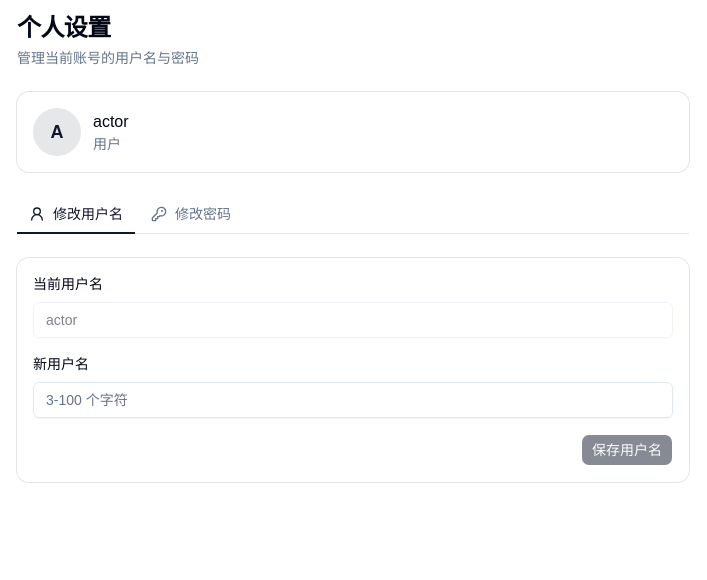
ProfilePage — self-service username & password › shows the username panel by default and switches panels via the panel nav
Expected: the field showing "actor" is shown, [33, 302, 673, 338]
Expected: the element with test id "username-panel" is shown, [17, 258, 689, 482]
Click the tab "修改密码" at {"x": 191, "y": 215}, box [139, 196, 243, 234]
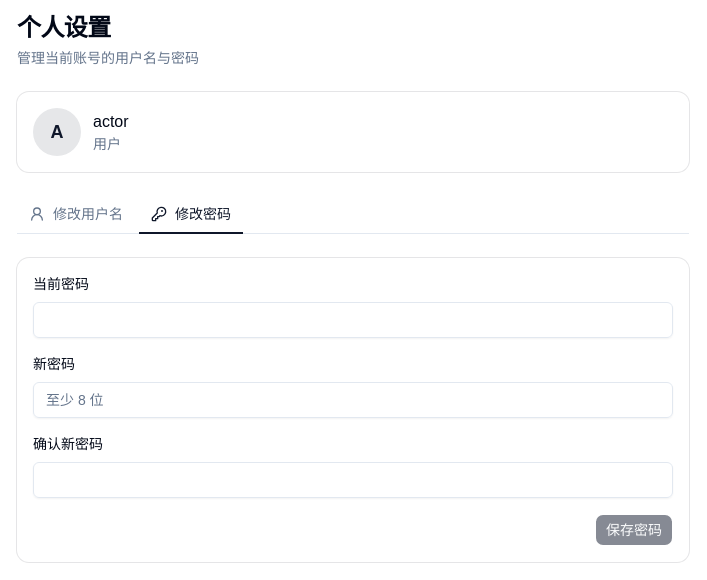
Expected: the element with test id "password-panel" is shown, [17, 258, 689, 562]
Expected: the element with test id "username-panel" is gone
Click the tab "修改用户名" at {"x": 76, "y": 215}, box [17, 196, 135, 234]
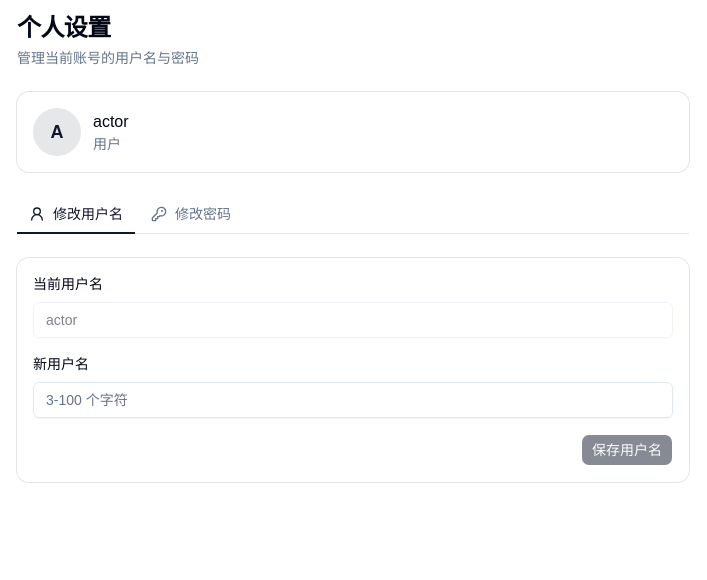
Expected: the element with test id "username-panel" is shown, [17, 258, 689, 482]
